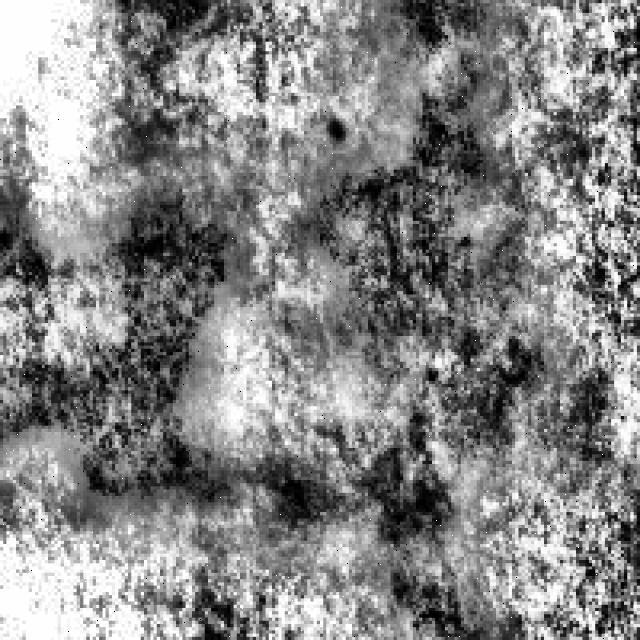Scratches: (317, 0, 525, 416), (3, 176, 253, 506), (262, 444, 461, 630)
